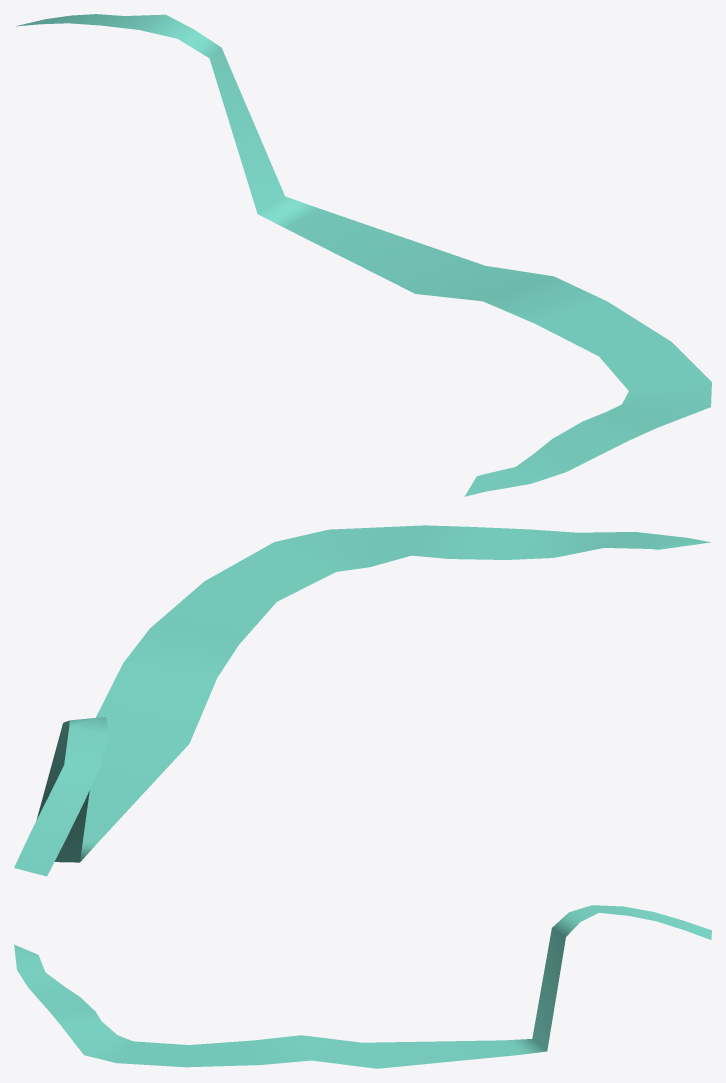
File: Mesh_Home_RF_River_03_SM.fbx
3 views of the same model, one above another, from view 1: azimuth 30°, elevation 25°; view 2: azimuth 150°, elevation 25°; view 3: azimuth 270°, elevation 25° (orthographic). The views are drawn at different scales.
Parts seen in each view (by area): view 1: Mesh_Home_RF_River_03; view 2: Mesh_Home_RF_River_03; view 3: Mesh_Home_RF_River_03.
Part boxes in pixels (x1=…): Mesh_Home_RF_River_03: x1=16, y1=14, x2=711, y2=496; Mesh_Home_RF_River_03: x1=14, y1=525, x2=710, y2=876; Mesh_Home_RF_River_03: x1=14, y1=905, x2=711, y2=1068.
Size of the model in its own units: 2431 by 1186 by 6636.
1 material, 1 textured.
